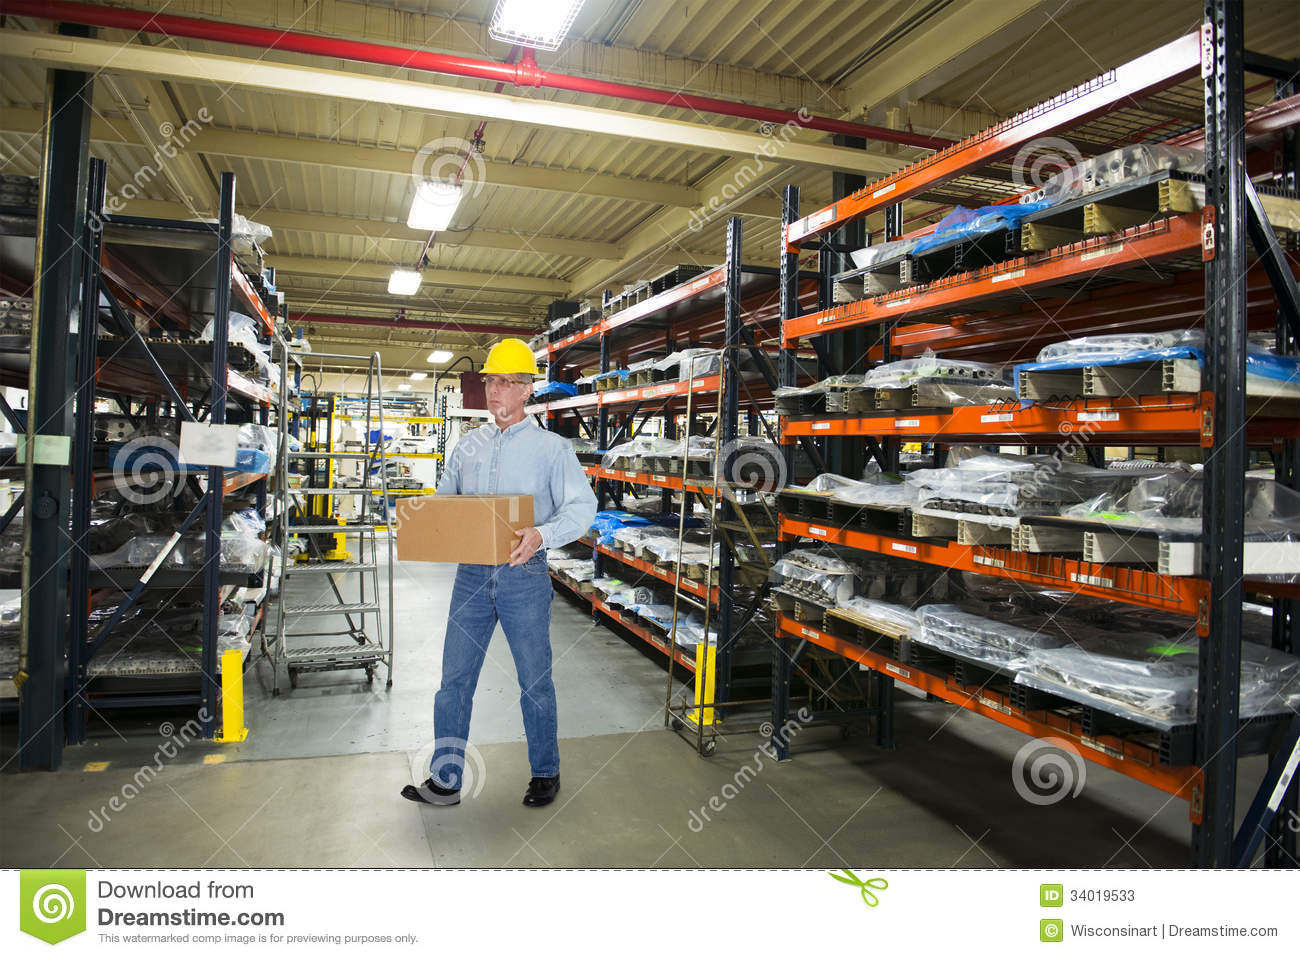person: (395, 336, 596, 807)
